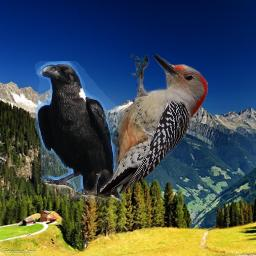Crow: (35, 61, 124, 203)
Woodpecker: (100, 54, 208, 194)
